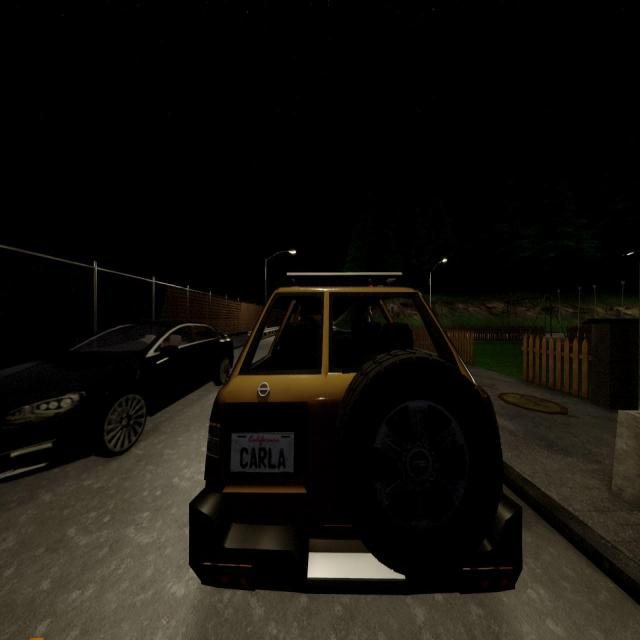Vehicle: (189, 270, 522, 593), (0, 316, 235, 484)
